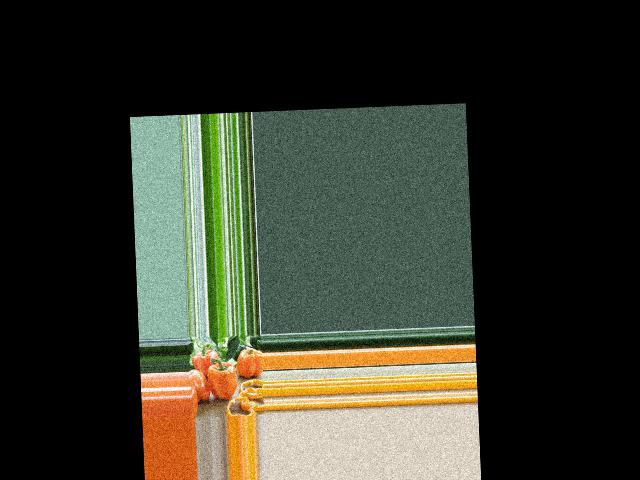bell_pepper: (189, 368, 210, 403)
